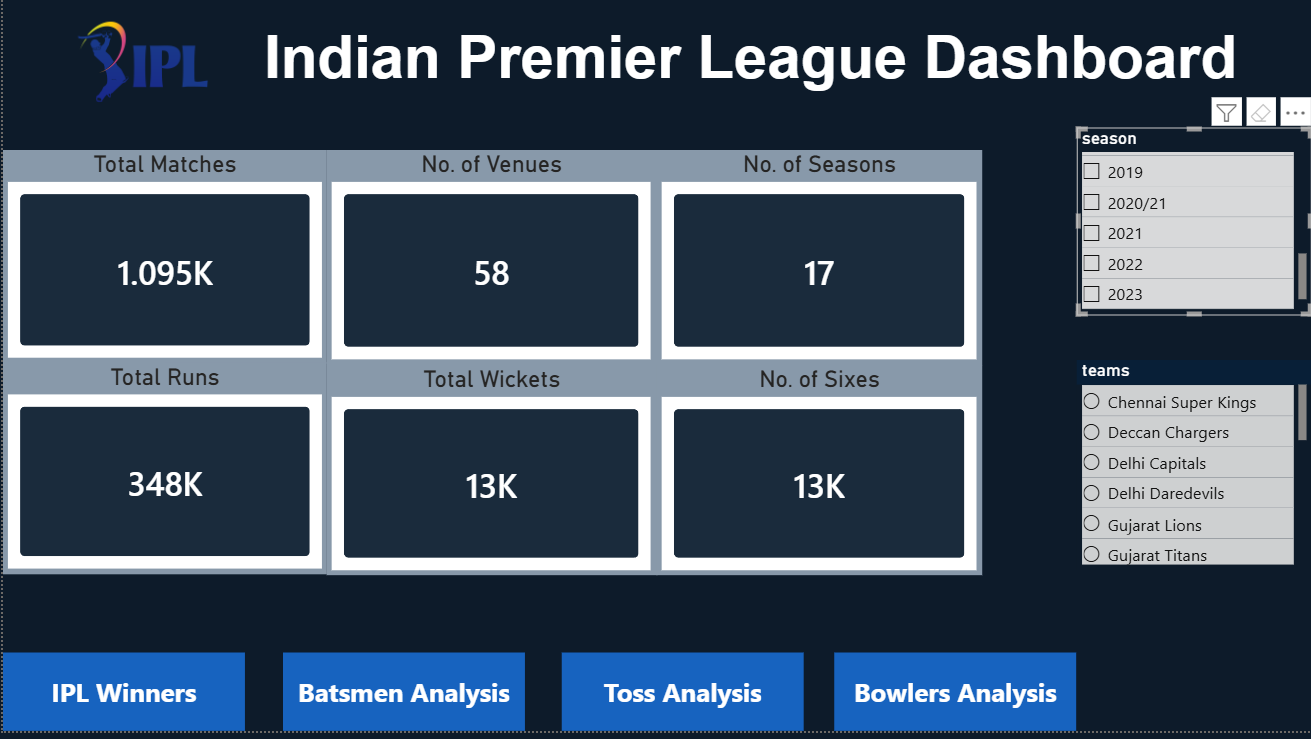

The page's visual inventory and layout, read from the dashboard file:
{"tool":"powerbi","page":{"name":"Home","canvas":[1280,720],"ordinal":0},"visuals":[{"type":"image","box":[0,0,273.3,130],"z":0},{"type":"textbox","box":[205,23.3,1051.7,78.3],"z":1000},{"type":"cardVisual","title":"Total Matches","fields":{"Data":["Count(deliveries.match_id)"]},"box":[0,151.4,317.1,208.6],"z":2000},{"type":"cardVisual","title":"No. of Seasons","fields":{"Data":["Count(matches.season)"]},"box":[640,151.4,318.6,210],"z":3000},{"type":"cardVisual","title":"No. of Venues","fields":{"Data":["Count(matches.venue)"]},"box":[317.1,151.4,322.9,210],"z":4000},{"type":"cardVisual","title":"Total Runs","fields":{"Data":["Sum(deliveries.total_runs)"]},"box":[0,360,317.1,207.1],"z":5000},{"type":"cardVisual","title":"Total Wickets","fields":{"Data":["Sum(deliveries.is_wicket)"]},"box":[317.1,361.4,322.9,205.7],"z":6000},{"type":"cardVisual","title":"No. of Sixes","fields":{"Data":["deliveries.Total Sixes"]},"box":[640,361.4,318.6,205.7],"z":7000},{"type":"actionButton","box":[0,643.3,236.7,76.7],"z":8000},{"type":"actionButton","box":[546.7,643.3,236.7,76.7],"z":9000},{"type":"actionButton","box":[273.3,643.3,236.7,76.7],"z":10000},{"type":"actionButton","box":[813.3,643.3,236.7,76.7],"z":11000},{"type":"listSlicer","fields":{"Values":["matches.season"]},"box":[1050,130,230,182.9],"z":12000},{"type":"listSlicer","title":"teams","fields":{"Values":["matches.team1"]},"box":[1050,357.1,230,205.7],"z":13000}]}

Visuals, with their boxes in screenshot pixels (x1, y1, x2, y2), scaled from the page's 1280x720 canvas onto the 1311x739 screenshot:
image: <region>0, 0, 280, 133</region>
textbox: <region>210, 24, 1287, 104</region>
"Total Matches" cardVisual: <region>0, 155, 325, 369</region>
"No. of Seasons" cardVisual: <region>656, 155, 982, 371</region>
"No. of Venues" cardVisual: <region>325, 155, 656, 371</region>
"Total Runs" cardVisual: <region>0, 369, 325, 582</region>
"Total Wickets" cardVisual: <region>325, 371, 656, 582</region>
"No. of Sixes" cardVisual: <region>656, 371, 982, 582</region>
actionButton: <region>0, 660, 242, 738</region>
actionButton: <region>560, 660, 802, 738</region>
actionButton: <region>280, 660, 522, 738</region>
actionButton: <region>833, 660, 1075, 738</region>
listSlicer - matches.season: <region>1075, 133, 1310, 321</region>
"teams" listSlicer: <region>1075, 367, 1310, 578</region>
